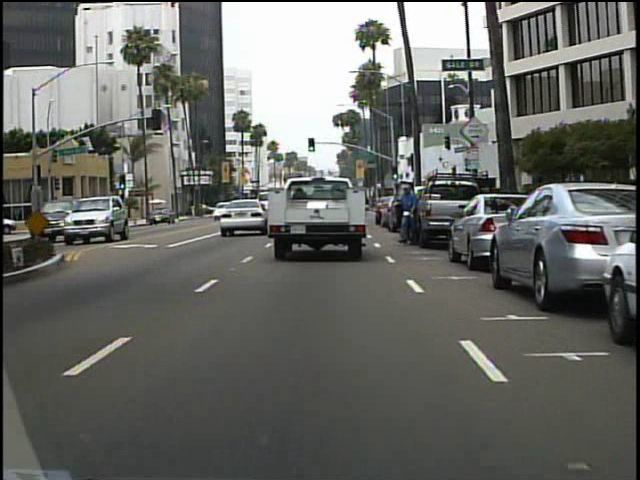person: (394, 182, 420, 247)
